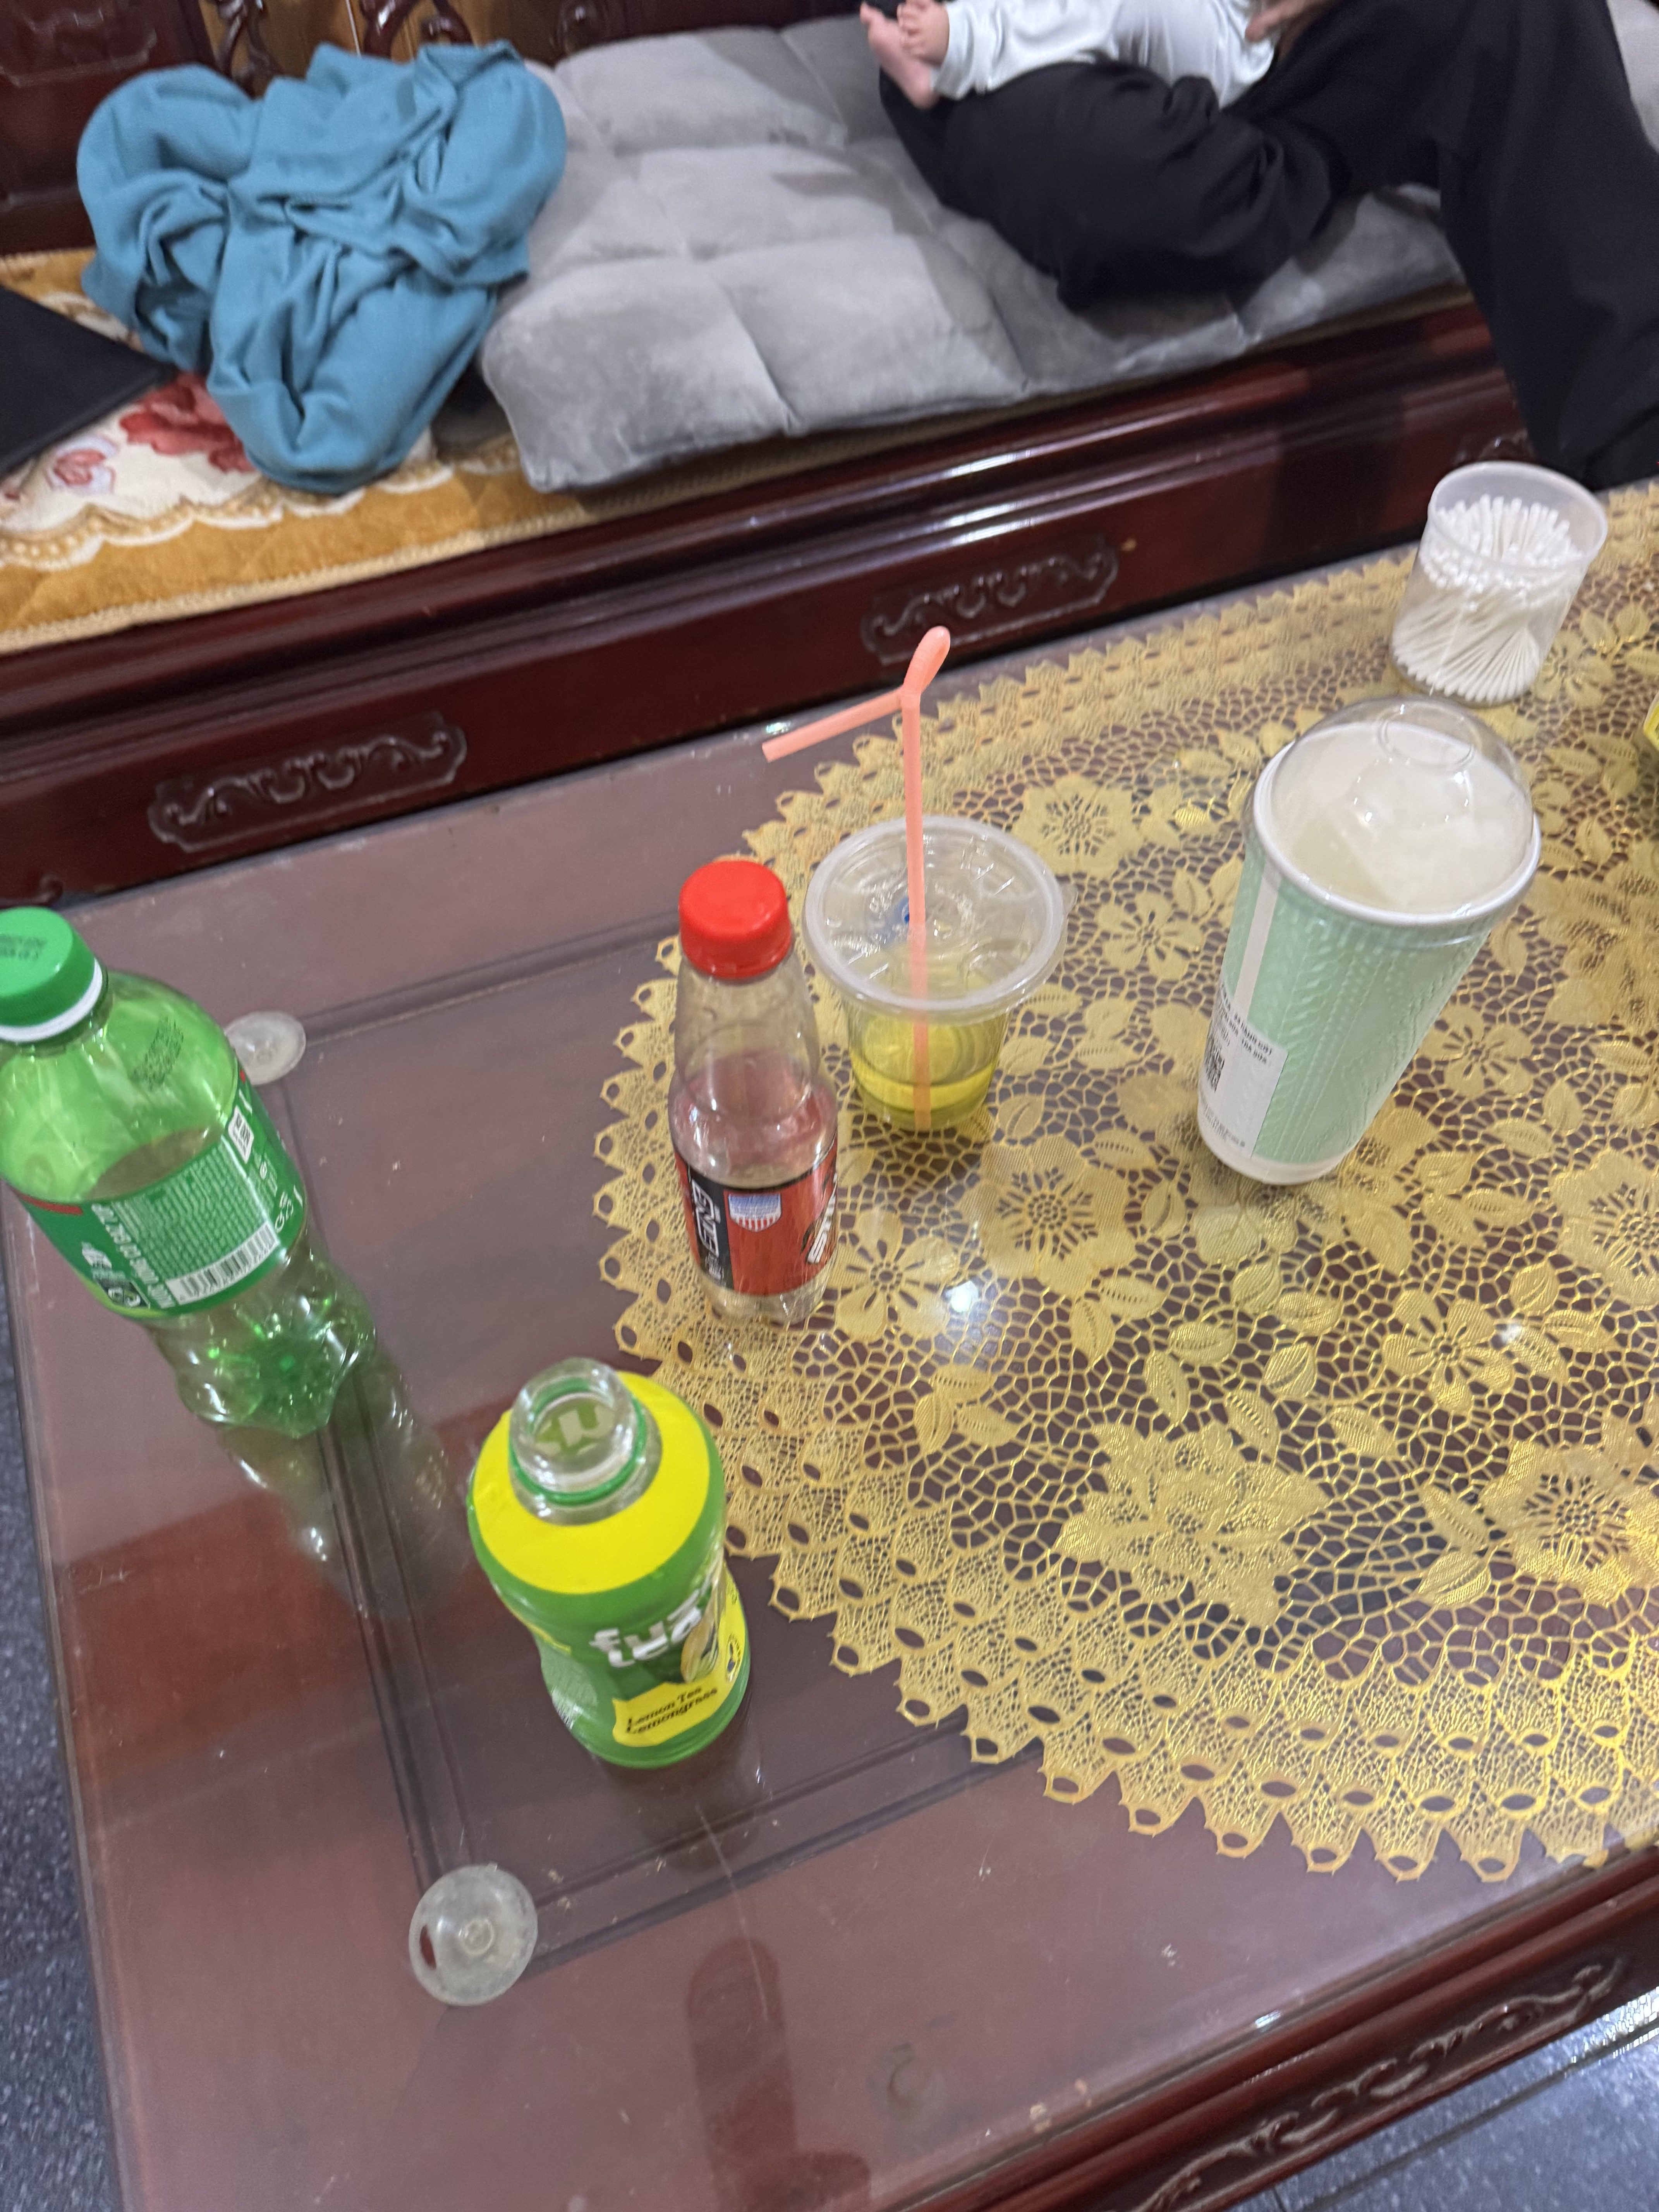bottle: (0, 827, 408, 1508), (1157, 672, 1553, 1235), (444, 1318, 829, 1876), (622, 827, 866, 1355)
cup: (793, 789, 1096, 1167)
